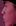without_mask: (2, 1, 16, 26)
